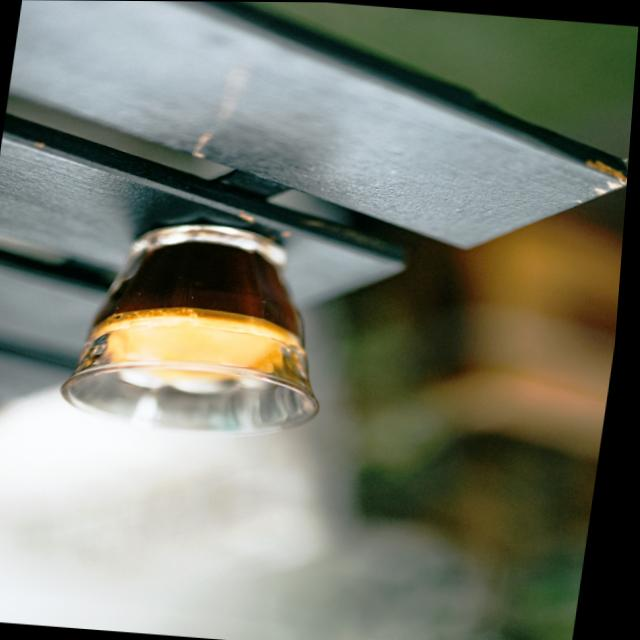drink: (62, 236, 318, 432)
